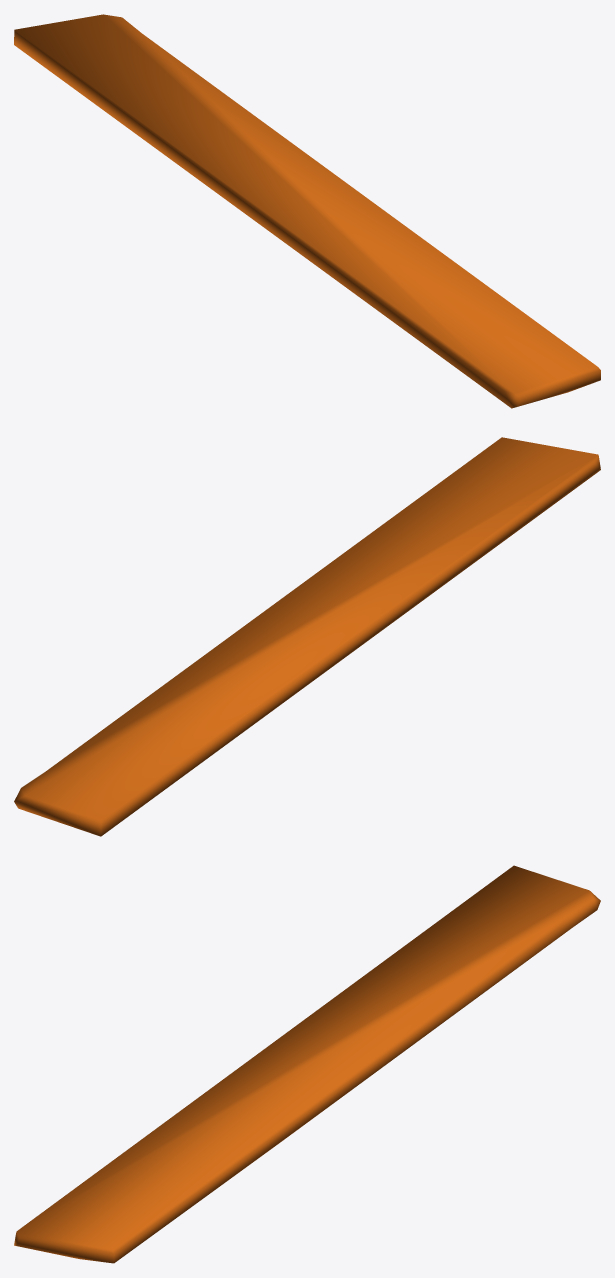
File: TombstonesCoffinWood.004.fbx
3 renders of one model, top to bottom at view 1: azimuth 30°, elevation 25°; view 2: azimuth 150°, elevation 25°; view 3: azimuth 330°, elevation 25°, orthographic.
Visible parts, largest first — view 1: TombstonesCoffinWood.004; view 2: TombstonesCoffinWood.004; view 3: TombstonesCoffinWood.004.
Boxes of the visible parts, x1=… form: TombstonesCoffinWood.004: x1=14, y1=14, x2=600, y2=408; TombstonesCoffinWood.004: x1=14, y1=437, x2=600, y2=836; TombstonesCoffinWood.004: x1=14, y1=865, x2=600, y2=1263.
Size of the model in its own units: 36.53 by 5.95 by 333.
